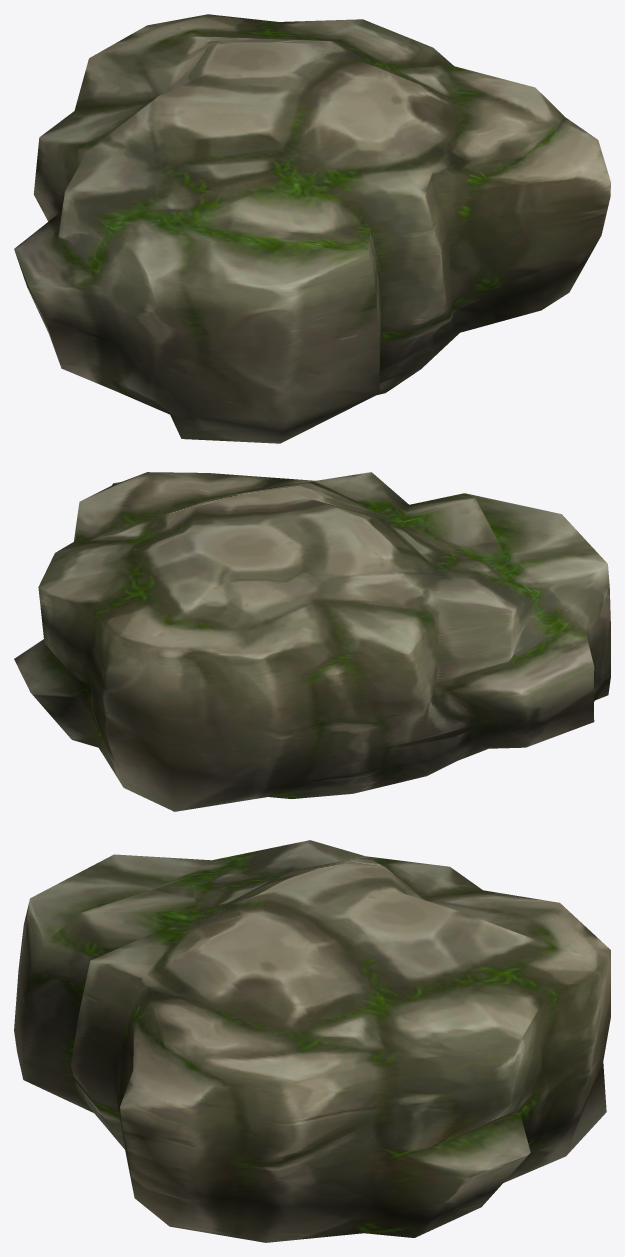
The model's file is RockFormation_4_2 (52).fbx.
3 views of the same model, one above another, from view 1: azimuth 30°, elevation 25°; view 2: azimuth 150°, elevation 25°; view 3: azimuth 270°, elevation 25° (orthographic). The views are drawn at different scales.
Parts seen in each view (by area): view 1: RockFormation_4_2 (52); view 2: RockFormation_4_2 (52); view 3: RockFormation_4_2 (52).
Part boxes in pixels (x1,y1,x2,y2): RockFormation_4_2 (52): [14, 14, 610, 443]; RockFormation_4_2 (52): [14, 472, 610, 811]; RockFormation_4_2 (52): [14, 840, 610, 1242].
Size of the model in its own units: 264 by 127 by 240.
